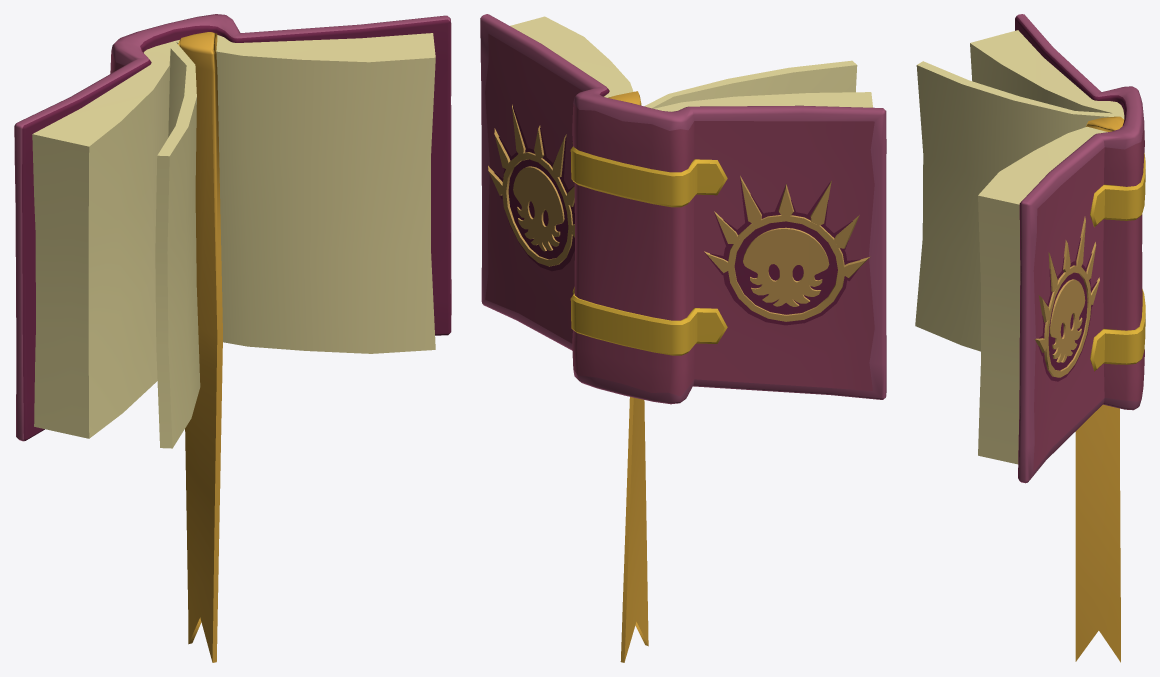
The model's file is book.glb.
The picture shows the model from 3 angles, left to right: view 1: azimuth 30°, elevation 25°; view 2: azimuth 150°, elevation 25°; view 3: azimuth 270°, elevation 25°; orthographic projection. The views are drawn at different scales.
Visible parts, largest first — view 1: BOOK; view 2: BOOK; view 3: BOOK.
Boxes of the visible parts, x1,y1,x2,y2 form: BOOK: (14, 14, 451, 662); BOOK: (480, 14, 886, 662); BOOK: (915, 14, 1145, 662).
Size of the model in its own units: 1.92 by 2.59 by 0.9863.
1 material, 1 textured.
